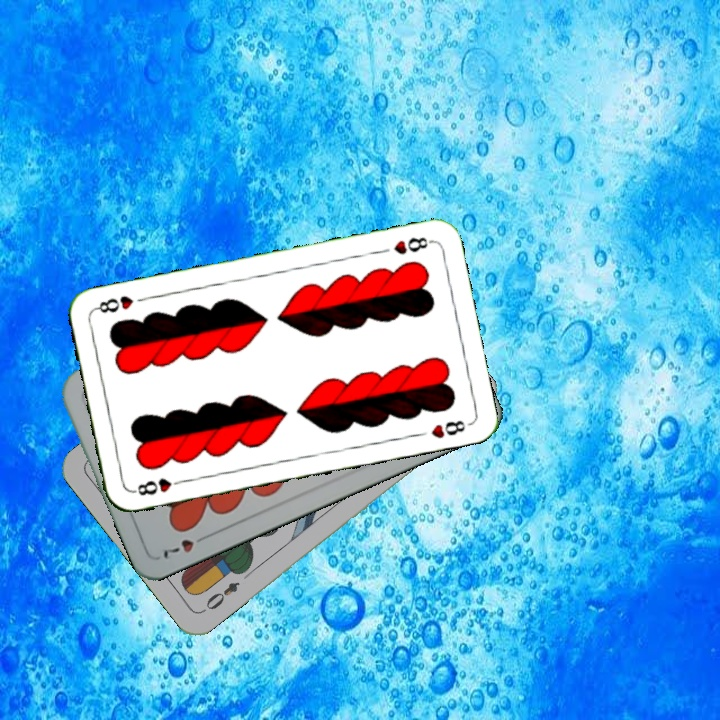EO: (198, 577, 242, 615)
H7: (159, 530, 212, 562)
H8: (129, 474, 188, 498), (389, 233, 435, 257)
